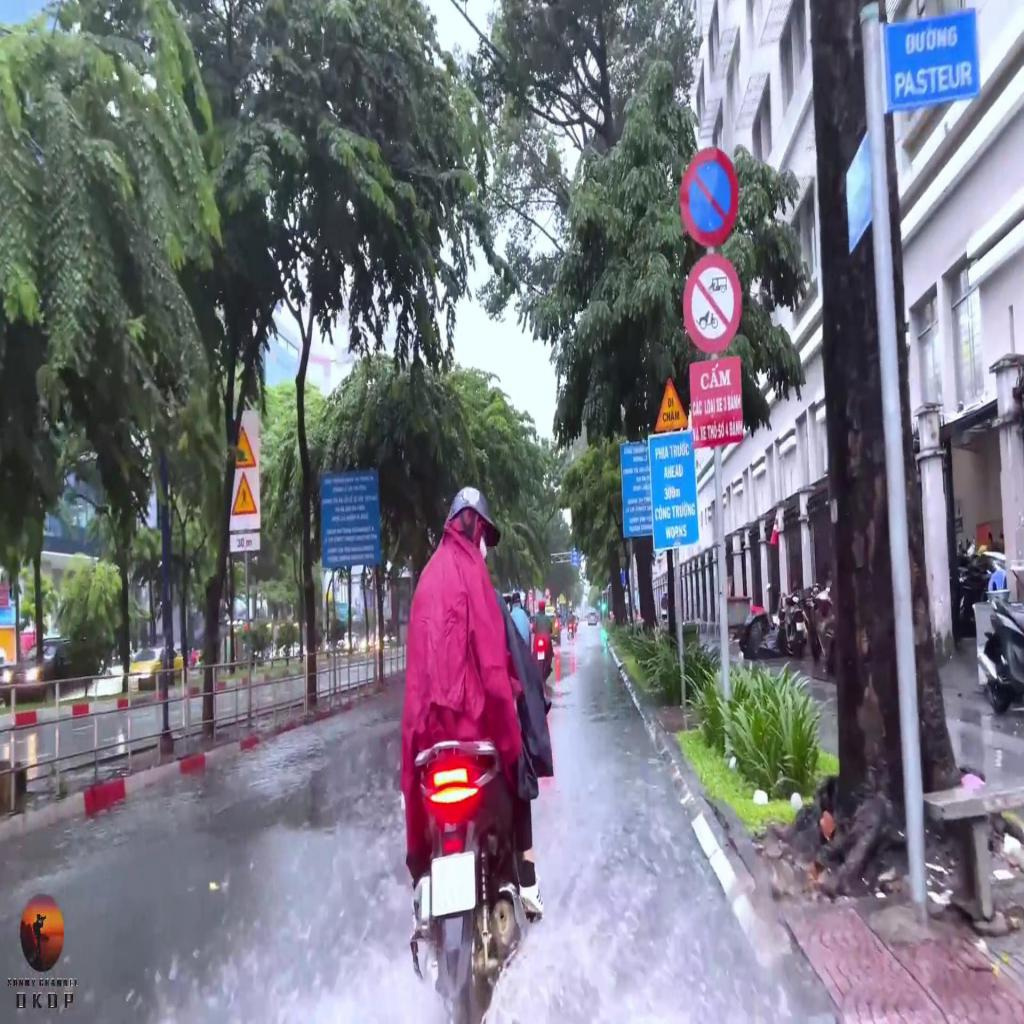cam_cac_loai_xe_3_banh: (680, 251, 741, 355)
cam_do_xe: (677, 145, 739, 248)
chu_y_nguoi_di_bo_cat_ngang: (233, 474, 256, 515)
di_cham: (656, 376, 690, 434)
duong_co_song_map_mo_nhan_tao: (232, 428, 255, 468)
